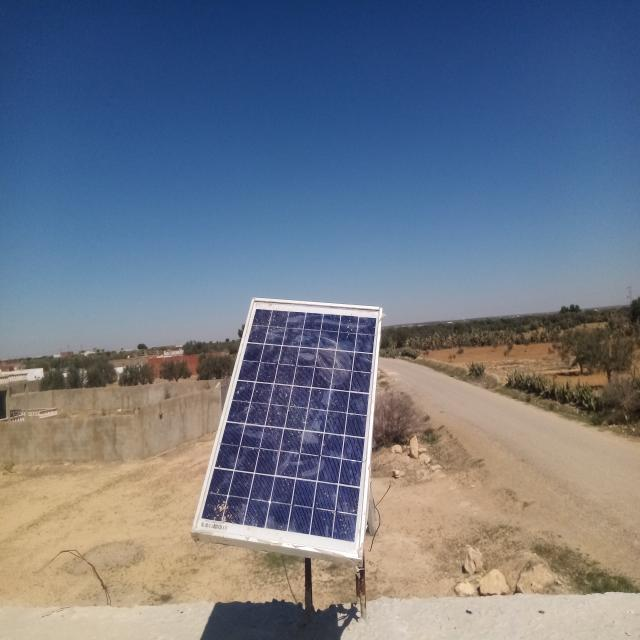faulty: (191, 298, 382, 559)
